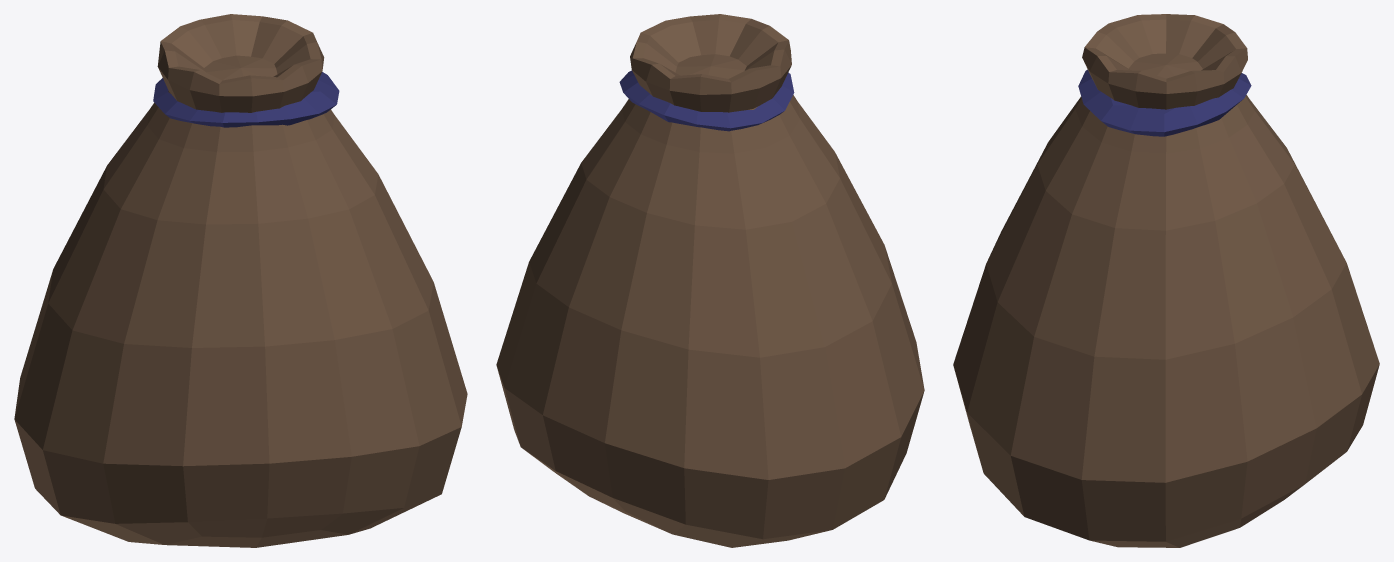
Rendered from quaternius-modular-dungeon-1-bag-standing.glb.
The picture shows the model from 3 angles, left to right: view 1: azimuth 30°, elevation 25°; view 2: azimuth 150°, elevation 25°; view 3: azimuth 270°, elevation 25°; orthographic projection. The views are drawn at different scales.
Visible parts, largest first — view 1: Bag_Standing; view 2: Bag_Standing; view 3: Bag_Standing.
Part boxes in pixels (x1,y1,x2,y2): Bag_Standing: [14, 14, 467, 547]; Bag_Standing: [496, 14, 924, 547]; Bag_Standing: [953, 14, 1379, 547].
Size of the model in its own units: 0.2178 by 0.2527 by 0.2099.
